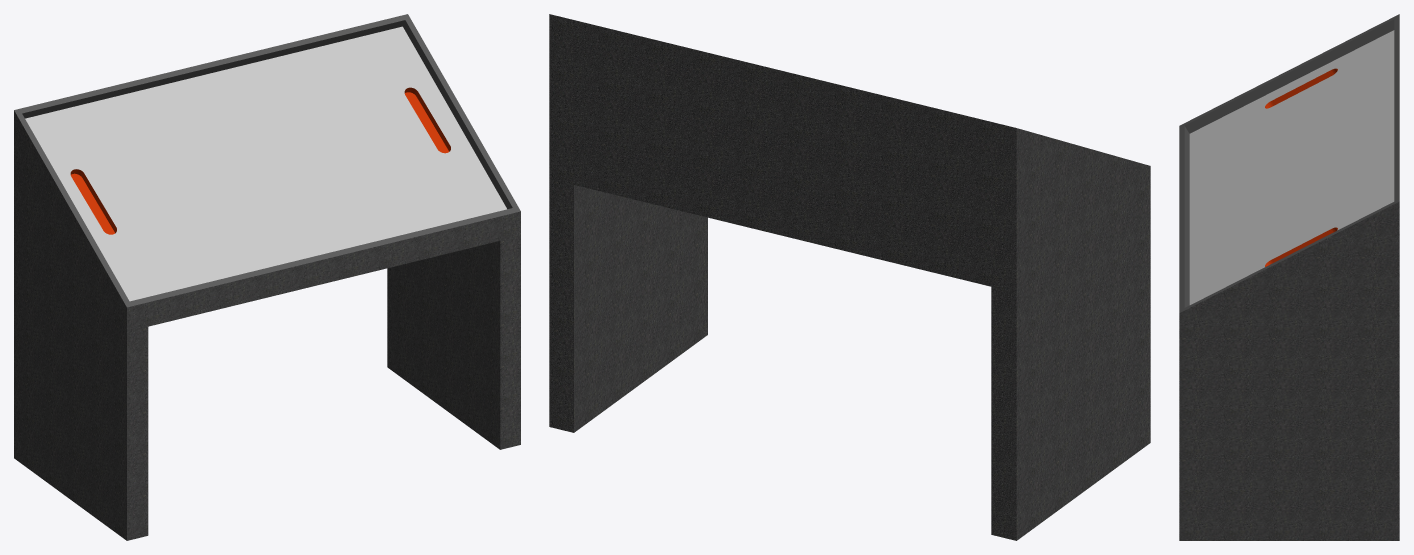
File: gçalışmamasası.dae
3 renders of one model, left to right at view 1: azimuth 30°, elevation 25°; view 2: azimuth 150°, elevation 25°; view 3: azimuth 270°, elevation 25°, orthographic. The views are drawn at different scales.
Parts seen in each view (by area): view 1: SketchUp (×6); view 2: SketchUp; view 3: SketchUp (×6).
Part boxes in pixels (<box>): SketchUp (×6): <box>14,14,520,540</box>; SketchUp: <box>549,14,1150,540</box>; SketchUp (×6): <box>1179,14,1399,540</box>.
Bounding box in the file's own units: 119 × 59.06 × 100.
Materials: 5 (1 with a texture image).
